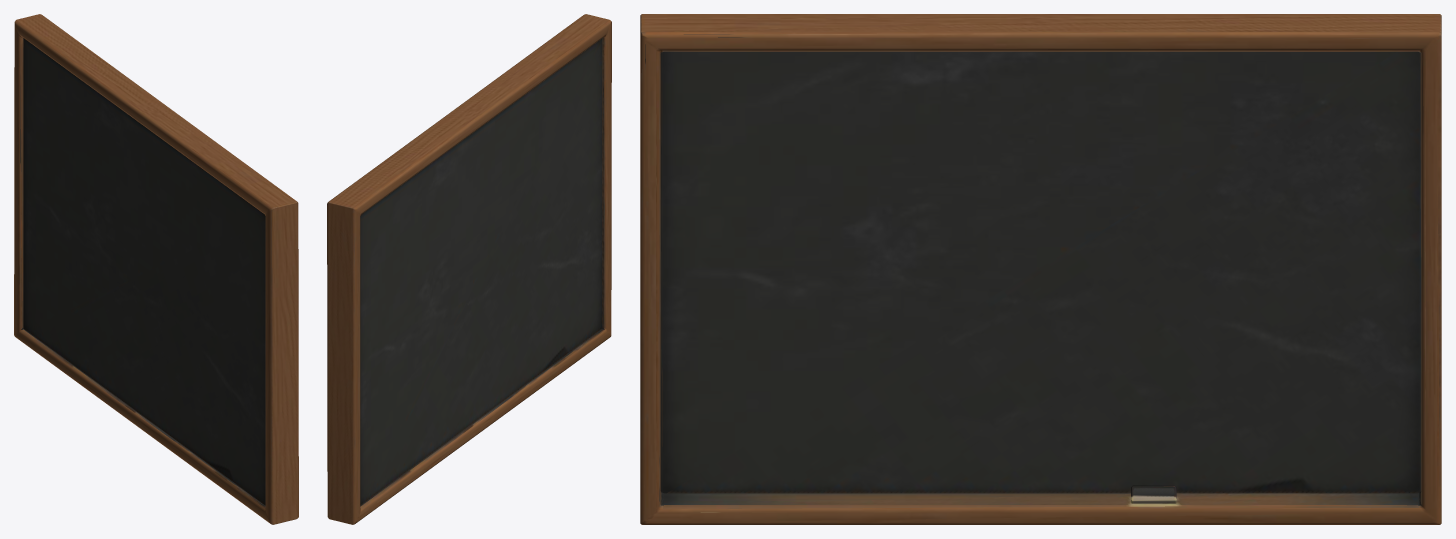
The model's file is Prop_Board_Chalk.glb.
3 views of the same model, side by side, from view 1: azimuth 30°, elevation 25°; view 2: azimuth 150°, elevation 25°; view 3: azimuth 270°, elevation 25° (orthographic). The views are drawn at different scales.
Visible parts, largest first — view 1: tripo_node_c83de308-e691-478c-bf5f-f5dbbb0e9438; view 2: tripo_node_c83de308-e691-478c-bf5f-f5dbbb0e9438; view 3: tripo_node_c83de308-e691-478c-bf5f-f5dbbb0e9438.
Part boxes in pixels (<box>): tripo_node_c83de308-e691-478c-bf5f-f5dbbb0e9438: <box>14,14,298,524</box>; tripo_node_c83de308-e691-478c-bf5f-f5dbbb0e9438: <box>327,14,611,524</box>; tripo_node_c83de308-e691-478c-bf5f-f5dbbb0e9438: <box>640,14,1441,524</box>.
Size of the model in its own units: 0.1141 by 1.2 by 1.77.
1 material, 1 textured.
